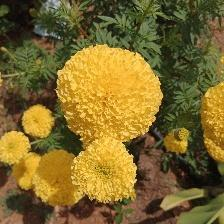marigold: (56, 44, 166, 146)
